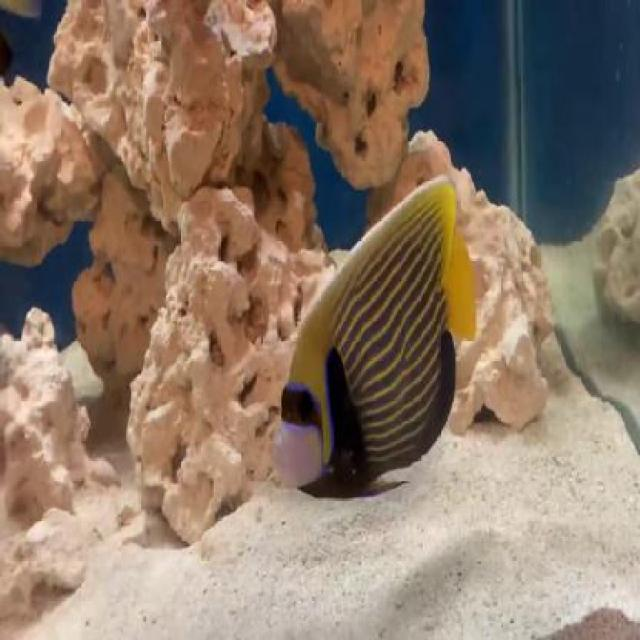AngelFish: (268, 176, 457, 499)
